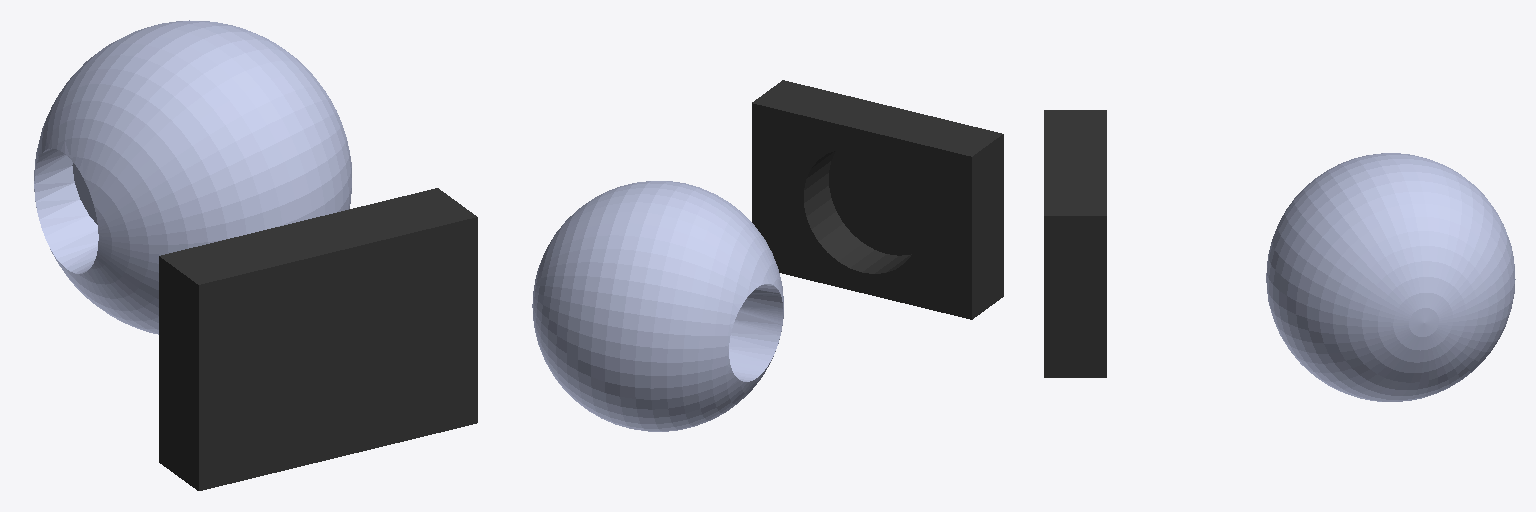
URDF robot description (ehn):
<?xml version="1.0" encoding="utf-8"?>

<!-- This URDF was automatically created by SolidWorks to URDF Exporter! Originally created by [author] ([email redacted]) 
     Commit Version: 1.6.0-1-g15f4949  Build Version: 1.6.7594.29634
     For more information, please see http://wiki.ros.org/sw_urdf_exporter -->
<robot
  name="ehn">
    <!--ros_control plugin-->
  <gazebo>
  <plugin name="gazebo_ros_control" filename="libgazebo_ros_control.so">
    <robotNamespace>ehn</robotNamespace>
  </plugin>
</gazebo>

<!-- * * * BASE LINK * * * -->
 <link name="world"/> 

  <link name="base_link">
    <inertial>
      <origin
        xyz="0 0 0"  rpy="0 0 0" />
      <mass value="10.1" />
      <inertia
        ixx="0.67109" ixy="0.5715" ixz="-0.036069" iyy="0.21011" iyz="-0.16464" izz="0.70362" />
    </inertial>
   <visual>
      <origin
        xyz="0 0 0" rpy="0 0 0" />
      <geometry>
        <mesh
          filename="package://ehn_description/meshes/torso.STL" scale="0.001 0.001 0.001"/>
      </geometry>
       <material
        name="">
        <color rgba="0.25098 0.25098 0.25098 1" />
      </material>
     
    </visual>
    <collision>
      <origin
        xyz="0 0 0"  rpy="0 0 0" />
      <geometry>
       <mesh
          filename="package://ehn_description/meshes/torso.STL" scale="0.001 0.001 0.001"/>
      </geometry>
    </collision>
  </link>
  <gazebo reference="base_link">
        <kp>1000000.0</kp>
        <kd>1000000.0</kd>
        <mu1>1000000.0</mu1>
        <mu2>1000000.0</mu2>
        <material>Gazebo/Green</material>
    </gazebo>
    <joint
    name="dummy_joint" type="fixed">
    <origin
      xyz="0 0 0" rpy="0 0 0" />
    <parent link="world" />
    <child link="base_link" />
  </joint> 
    
    <!-- * * * NECK LINK * * * -->
  <link
    name="neck_link">
    <inertial>
      <origin
        xyz="-0.021152 0.21053 0.0061715" rpy="0 0 0" />
      <mass
        value="1" />
      <inertia
        ixx="0.067109" ixy="0.005715" ixz="-0.00036069" iyy="0.021011" iyz="-0.0016464" izz="0.070362" />
    </inertial>
     <visual>
      <origin
        xyz="0 0 0" rpy="-0.3 0 0" />
         
      <geometry>
       <mesh
          filename="package://ehn_description/meshes/neck.STL" scale="0.001 0.001 0.001" />
      </geometry>
     <material
        name="">
        <color
          rgba="0.79216 0.81961 0.93333 1" />
      </material> 
      
    </visual>
   <collision>
      <origin
        xyz="0 0 0"  rpy="-0.3 0 0" />
      <geometry>
       <mesh
          filename="package://ehn_description/meshes/neck.STL" scale="0.001 0.001 0.001"/>
      </geometry>
    </collision>
    
  </link>
  <gazebo reference="neck_link">
        <kp>1000000.0</kp>
        <kd>1000000.0</kd>
        <mu1>10.0</mu1>
        <mu2>10.0</mu2>
        <material>Gazebo/Green</material>
    </gazebo>
    <!-- * * * Neck Joint* * * -->
    <!--<joint
    name="neck_joint" type="fixed">
    <origin
      xyz="0 0 0" rpy="0 0 0" />
    <parent link="base_link" />
    <child link="neck_link1" />
  </joint>  -->
  
  <link name="neck_link1" >
    <inertial>
      <mass value="0.001" />
      <inertia ixx="5.8083e-4" ixy="0" ixz="0" iyy="3.0833e-5" iyz="0" izz="5.9083e-4" />
    </inertial>
  </link>
  <joint
    name="neck_joint1" type="revolute">
    <origin
      xyz="0 0 0" rpy="0 0 0" />
    <parent link="base_link" />
    <child link="neck_link1" />
    <limit lower="-1.57" upper="1.57" effort="10.0" velocity="10.0"/>
    <axis
      xyz="1 0 0" />
  </joint>
  <link name="neck_link2" >
    <inertial>
      <mass value="0.001" />
      <inertia ixx="5.8083e-4" ixy="0" ixz="0" iyy="3.0833e-5" iyz="0" izz="5.9083e-4" />
    </inertial>
  </link>
  <joint
    name="neck_joint2" type="revolute">
    <origin
      xyz="0 0 0" rpy="0 0 0" />
    <parent link="neck_link1" />
    <child link="neck_link2" />
    <limit lower="-0.2" upper="0.2" effort="10.0" velocity="1.0"/>
    <axis
      xyz="0 1 0" />
  </joint>
<link name="neck_link3" >
    <inertial>
      <mass value="0.001" />
      <inertia ixx="5.8083e-4" ixy="0" ixz="0" iyy="3.0833e-5" iyz="0" izz="5.9083e-4" />
    </inertial>
  </link>
  
  <joint
    name="neck_joint3" type="revolute">
    <origin
      xyz="0 0 0" rpy="0 0 0" />
    <parent link="neck_link2" />
    <child link="neck_link3" />
    <limit lower="-0.2" upper="0.2" effort="10.0" velocity="1.0"/>
    <axis
      xyz="0 0 1" />
  </joint>
  <joint
    name="neck_joint" type="fixed">
    <origin
      xyz="0 0 0" rpy="0 0 0" />
    <parent link="neck_link3" />
    <child link="neck_link" />
  </joint>
  
        <!--Connection between joint and actuator-->
  <transmission name="tran1">
        <type>transmission_interface/SimpleTransmission</type>
        <joint name="neck_joint1">
            <hardwareInterface>hardware_interface/EffortJointInterface</hardwareInterface>
        </joint>
        <actuator name="motor1">
            <hardwareInterface>EffortJointInterface</hardwareInterface>
            <mechanicalReduction>1</mechanicalReduction> <!--OPTIONAL-->
        </actuator>
    </transmission>
    <transmission name="tran2">
        <type>transmission_interface/SimpleTransmission</type>
        <joint name="neck_joint2">
            <hardwareInterface>hardware_interface/EffortJointInterface</hardwareInterface>
        </joint>
        <actuator name="motor2">
            <hardwareInterface>EffortJointInterface</hardwareInterface>
            <mechanicalReduction>1</mechanicalReduction>
        </actuator>
    </transmission>
    <transmission name="tran3">
        <type>transmission_interface/SimpleTransmission</type>
        <joint name="neck_joint3">
            <hardwareInterface>hardware_interface/EffortJointInterface</hardwareInterface>
        </joint>
        <actuator name="motor3">
            <hardwareInterface>EffortJointInterface</hardwareInterface>
            <mechanicalReduction>1</mechanicalReduction>
        </actuator>
    </transmission>
    <!-- * * * Link Head* * * -->
  <link
    name="head_link">
    <inertial>
      <origin
        xyz="-0.021152 0.21053 0.0061715" rpy="0 0 0" />
      <mass
        value="0.5" />
      <inertia
        ixx="0.67109" ixy="0.05715" ixz="-0.0036069" iyy="0.21011" iyz="-0.016464" izz="0.70362" />
    </inertial>
   <visual>
      <origin
        xyz="0.08 0.025 0" rpy="0 0 0" />
      <geometry>
        <mesh
          filename="package://ehn_description/meshes/head.STL" scale="0.001 0.001 0.001"/>
      </geometry>
      <material
        name="">
        <color
          rgba="0.79216 0.81961 0.93333 1" />
      </material> 
    </visual>
    <collision>
      <origin
        xyz="0.08 0.025 0" rpy="0 0 0" />
      <geometry>
       <mesh
          filename="package://ehn_description/meshes/head.STL" scale="0.001 0.001 0.001"/>
      </geometry>
    </collision> 
    
  </link>
  <gazebo reference="head_link">
        <kp>1000000.0</kp>
        <kd>1000000.0</kd>
        <mu1>10.0</mu1>
        <mu2>10.0</mu2>
        <material>Gazebo/Green</material>
    </gazebo>
    <!-- * * * Head Joint* * * -->
  <joint
    name="head_joint" type="revolute">
    <origin
      xyz="0 0 0" rpy="0 0 0" /><!--0.028348 0.21166 0.015774-->
    <parent
      link="neck_link" />
    <child
      link="head_link" />
    <limit lower="-1.05" upper="1.05" effort="10.0" velocity="7.0"/>
    <axis
      xyz="0 0 1" />
  </joint>
  <transmission name="tran4">
        <type>transmission_interface/SimpleTransmission</type>
        <joint name="head_joint">
            <hardwareInterface>hardware_interface/EffortJointInterface</hardwareInterface>
        </joint>
        <actuator name="motor4">
            <hardwareInterface>EffortJointInterface</hardwareInterface>
            <mechanicalReduction>1</mechanicalReduction>
        </actuator>
    </transmission>
    <!-- * * * Link Eye* * * -->
  <link
    name="eye_link">
    <inertial>
      <origin
        xyz="-0.021152 0.21053 0.0061715" rpy="0 0 0" />
      <mass
        value="0.2" />
      <inertia
        ixx="0.067109" ixy="0.005715" ixz="-0.00036069" iyy="0.021011" iyz="-0.0016464" izz="0.070362" />
    </inertial>
    <visual>
      <origin
        xyz="0.12 0.02 0" rpy="0 0 0" />
      <geometry>
        <mesh
          filename="package://ehn_description/meshes/eye.STL" scale="0.001 0.001 0.001"/>
      </geometry>
      <material
        name="">
        <color
          rgba="0.50196 0.50196 0.50196 1" />
      </material>
    </visual>
    <collision>
      <origin
        xyz="0.12 0.02 0" rpy="0 0 0" />
      <geometry>
      
        <mesh
          filename="package://ehn_description/meshes/eye.STL" scale="0.001 0.001 0.001"/>
      </geometry>
    </collision>
  </link>
   <gazebo reference="eye_link">
        <kp>1000000.0</kp>
        <kd>1000000.0</kd>
        <mu1>10.0</mu1>
        <mu2>10.0</mu2>
        <material>Gazebo/Blue</material>
    </gazebo>
    <!-- * * * Eye joint* * * -->
    <!--<joint
    name="eye_joint" type="fixed">
    <origin
      xyz="0.0032992 0.058741 -0.011773" rpy="0 0 0" />
    <parent link="head_link" />
    <child link="eye_link1" />
  </joint> -->
  
  <link name="eye_link1" >
    <inertial>
      <mass value="0.001" />
      <inertia ixx="5.8083e-4" ixy="0" ixz="0" iyy="3.0833e-5" iyz="0" izz="5.9083e-4" />
    </inertial>
  </link>
  <joint
    name="eye_joint1" type="revolute">
    <origin
      xyz="0 0 0" rpy="0 0 0" /><!--0.0032992 0.058741 -0.011773-->
    <parent link="head_link" />
    <child link="eye_link1" />
    <limit lower="-1.57" upper="1.57" effort="10.0" velocity="10.0"/>
    <axis
      xyz="1 0 0" />
  </joint>
  <link name="eye_link2" >
    <inertial>
      <mass value="0.001" />
      <inertia ixx="5.8083e-4" ixy="0" ixz="0" iyy="3.0833e-5" iyz="0" izz="5.9083e-4" />
    </inertial>
  </link>
  <joint
    name="eye_joint2" type="revolute">
    <origin
      xyz="0 0 0" rpy="0 0 0" />
    <parent link="eye_link1" />
    <child link="eye_link2" />
    <limit lower="-0.2" upper="0.2" effort="10.0" velocity="1.0"/>
    <axis
      xyz="0 1 0" />
  </joint>
<link name="eye_link3" >
    <inertial>
      <mass value="0.001" />
      <inertia ixx="5.8083e-4" ixy="0" ixz="0" iyy="3.0833e-5" iyz="0" izz="5.9083e-4" />
    </inertial>
  </link>
  
  <joint
    name="eye_joint3" type="revolute">
    <origin
      xyz="0 0 0" rpy="0 0 0" />
    <parent link="eye_link2" />
    <child link="eye_link3" />
    <limit lower="-0.2" upper="0.2" effort="10.0" velocity="1.0"/>
    <axis
      xyz="0 0 1" />
  </joint>
  <joint
    name="eye_joint" type="fixed">
    <origin
      xyz="0 0 0" rpy="0 0 0" />
    <parent link="eye_link3" />
    <child link="eye_link" />
  </joint>
  
  <transmission name="tran5">
        <type>transmission_interface/SimpleTransmission</type>
        <joint name="eye_joint1">
            <hardwareInterface>hardware_interface/EffortJointInterface</hardwareInterface>
        </joint>
        <actuator name="motor5">
            <hardwareInterface>EffortJointInterface</hardwareInterface>
            <mechanicalReduction>1</mechanicalReduction>
        </actuator>
    </transmission>
    <transmission name="tran6">
        <type>transmission_interface/SimpleTransmission</type>
        <joint name="eye_joint2">
            <hardwareInterface>hardware_interface/EffortJointInterface</hardwareInterface>
        </joint>
        <actuator name="motor6">
            <hardwareInterface>EffortJointInterface</hardwareInterface>
            <mechanicalReduction>1</mechanicalReduction>
        </actuator>
    </transmission>
    <transmission name="tran7">
        <type>transmission_interface/SimpleTransmission</type>
        <joint name="eye_joint3">
            <hardwareInterface>hardware_interface/EffortJointInterface</hardwareInterface>
        </joint>
        <actuator name="motor7">
            <hardwareInterface>EffortJointInterface</hardwareInterface>
            <mechanicalReduction>1</mechanicalReduction>
        </actuator>
    </transmission>
</robot>

--- What the picture shows (computed from the rendered views, not written in the file) ---
Views: 3 orthographic renders of the robot side by side, from view 1: azimuth 30°, elevation 25°; view 2: azimuth 150°, elevation 25°; view 3: azimuth 270°, elevation 25°.
Robot: ehn — 11 links, 10 joints (7 revolute, 3 fixed); root link world; default pose: every joint at zero.
Visible links, largest first — view 1: base_link, head_link; view 2: head_link, base_link; view 3: head_link, base_link.
Link boxes in pixels (x1,y1,x2,y2): base_link: (159, 188, 477, 490); head_link: (34, 20, 351, 334); head_link: (532, 181, 783, 431); base_link: (752, 80, 1003, 319); head_link: (1266, 153, 1515, 401); base_link: (1044, 110, 1106, 377).
Size in the robot's own frame: 0.2563 by 0.3776 by 0.1998 metres.
Meshes: 4 distinct files referenced, 2 mesh visuals loaded (2 binary STL); not drawn: 2 (reference not matched to a file when rendering).
